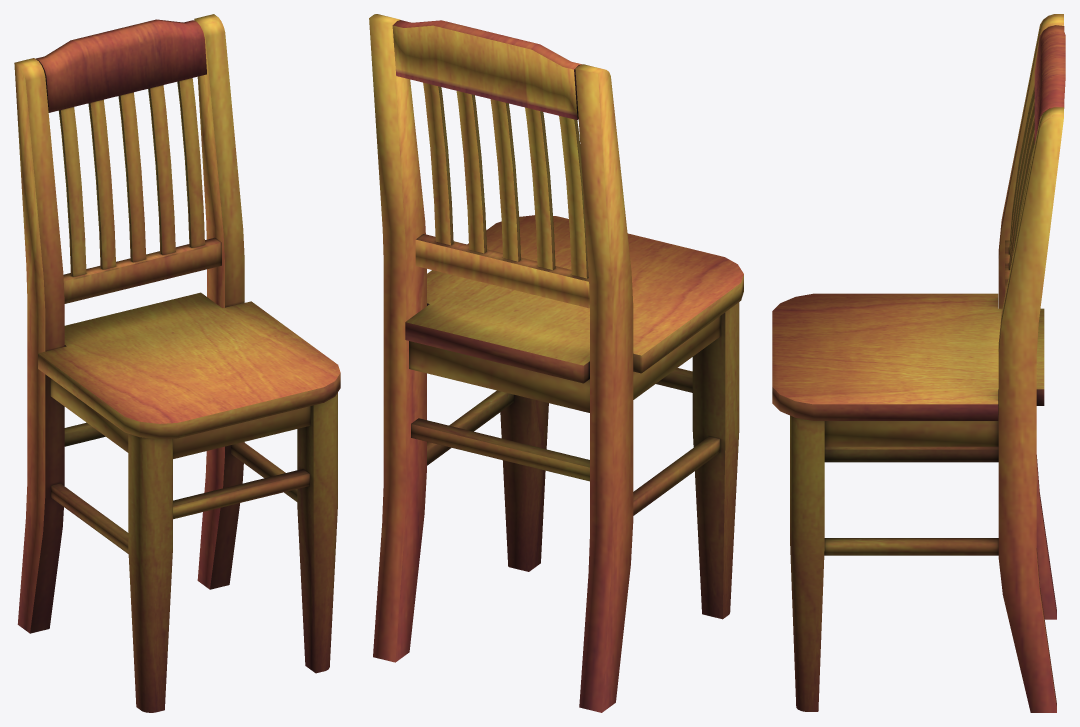
File: office_chair.glb
3 views of the same model, side by side, from view 1: azimuth 30°, elevation 25°; view 2: azimuth 150°, elevation 25°; view 3: azimuth 270°, elevation 25° (orthographic). The views are drawn at different scales.
Visible parts, largest first — view 1: chair; view 2: chair; view 3: chair.
Boxes of the visible parts, x1,y1,x2,y2 form: chair: (14, 14, 340, 712); chair: (369, 14, 743, 712); chair: (772, 14, 1065, 712).
Size of the model in its own units: 0.428 by 1.09 by 0.4785.
Materials: 1 (1 with a texture image).
